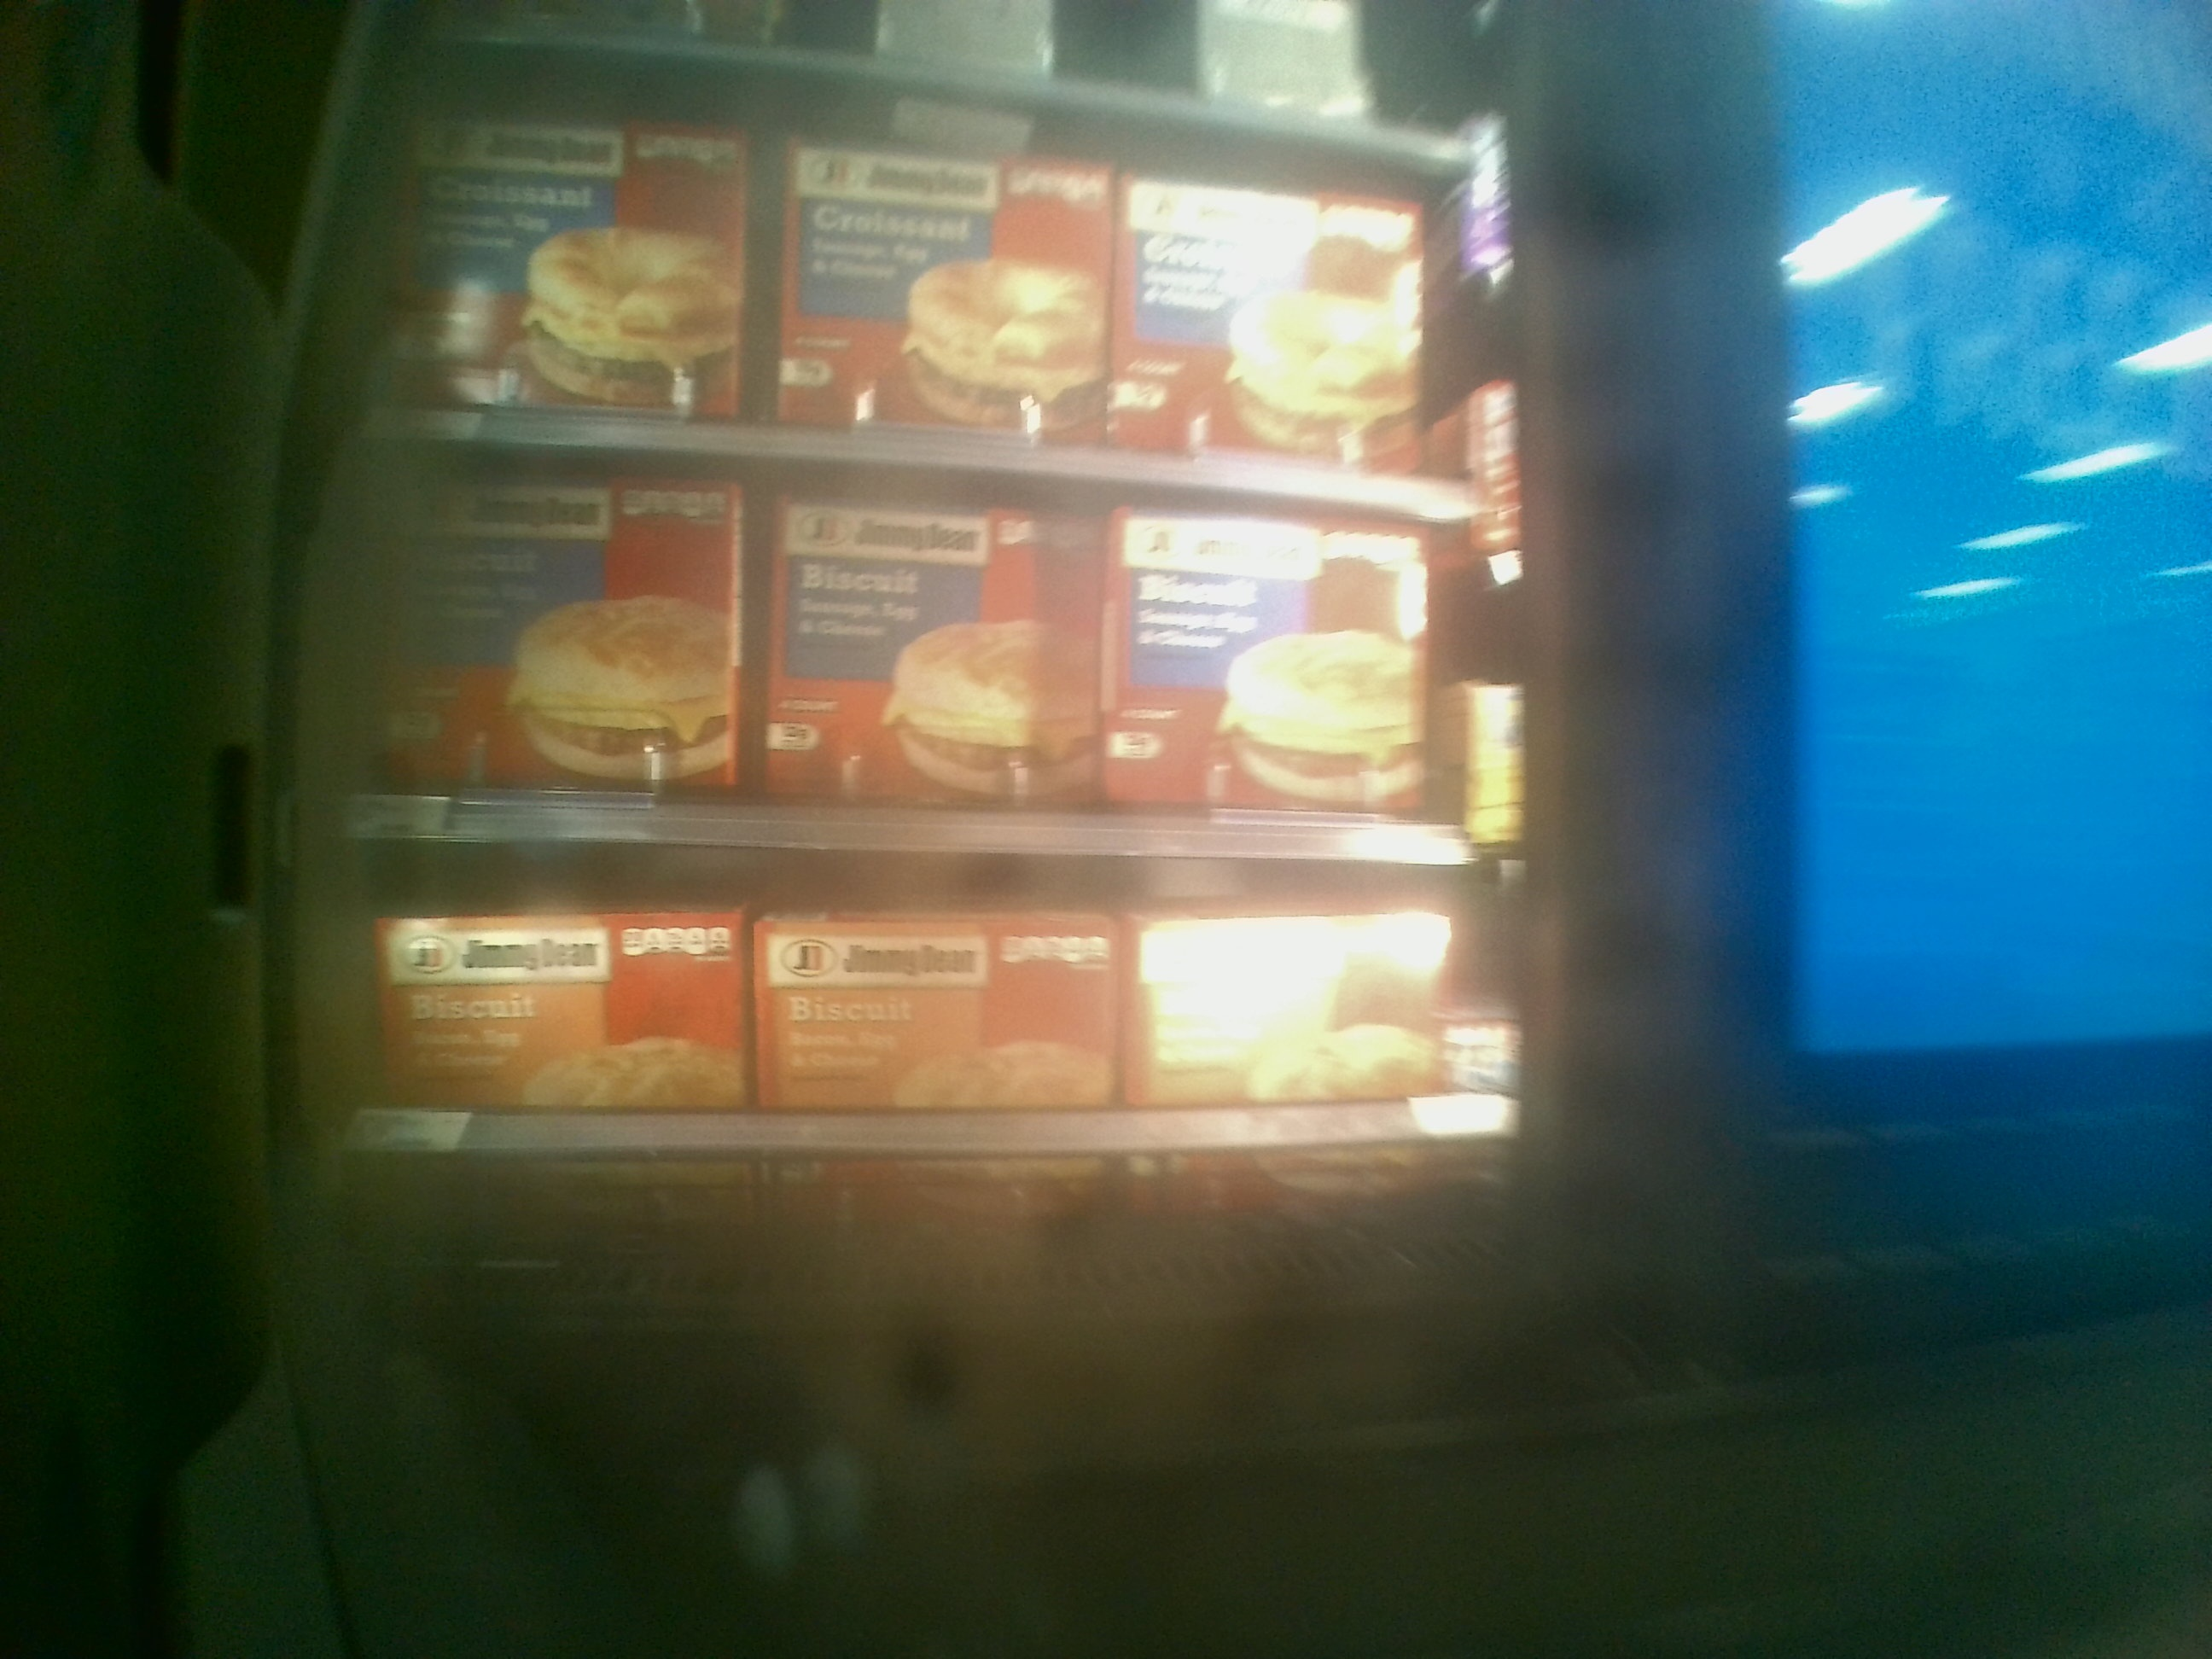shelf: (348, 849, 1529, 1269), (359, 432, 1491, 854)
